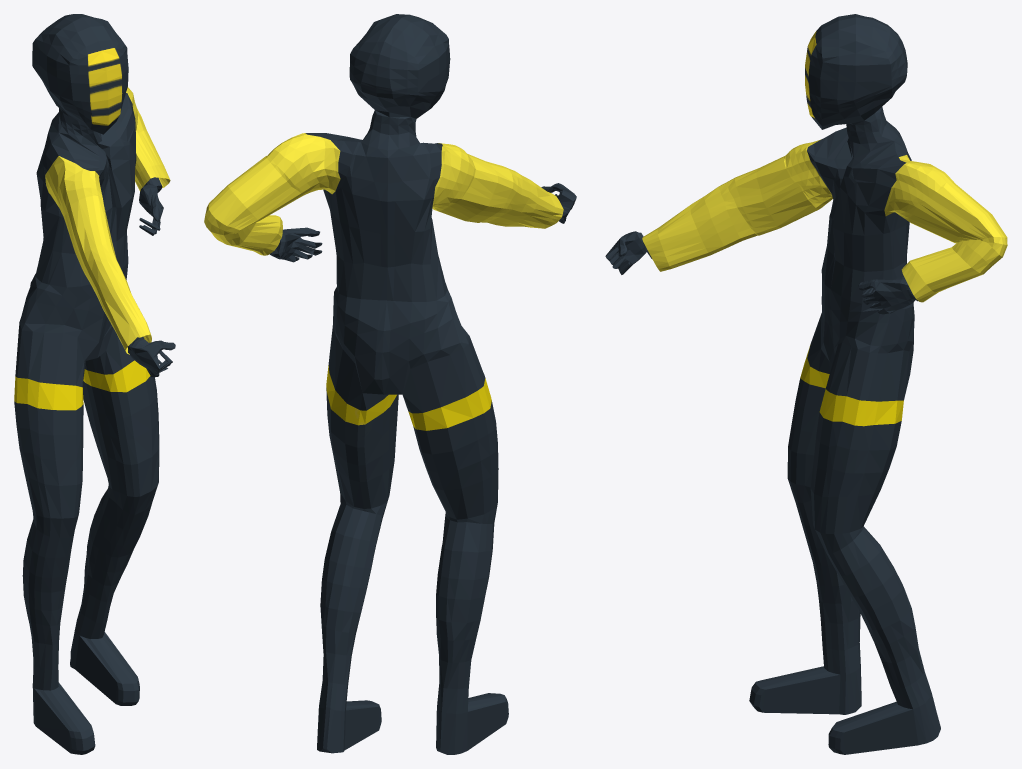
File: Sentry_WF_000012.obj
3 views of the same model, side by side, from view 1: azimuth 30°, elevation 25°; view 2: azimuth 150°, elevation 25°; view 3: azimuth 270°, elevation 25° (orthographic). The views are drawn at different scales.
Visible parts, largest first — view 1: Cube; view 2: Cube; view 3: Cube.
Boxes of the visible parts, x1,y1,x2,y2 form: Cube: (14, 14, 175, 754); Cube: (204, 14, 576, 754); Cube: (605, 14, 1007, 754).
Bounding box in the file's own units: 1.16 × 3.88 × 1.98.
